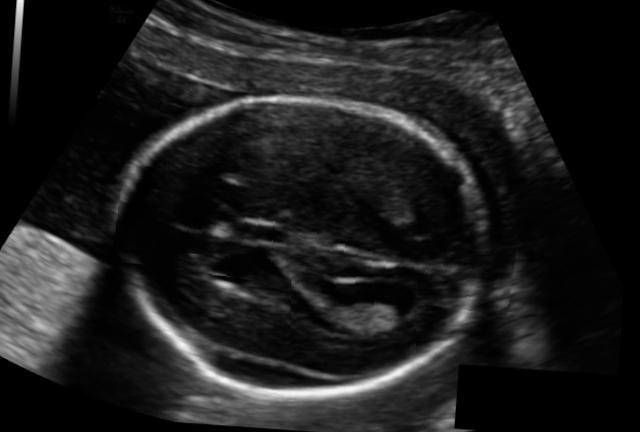CHOROID_PLEXUS: (288, 270, 421, 356)
CSP: (154, 185, 276, 259)
MIDLINE_FALX: (112, 170, 521, 310)
